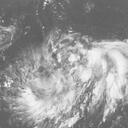cyclone: (35, 30, 115, 105)
